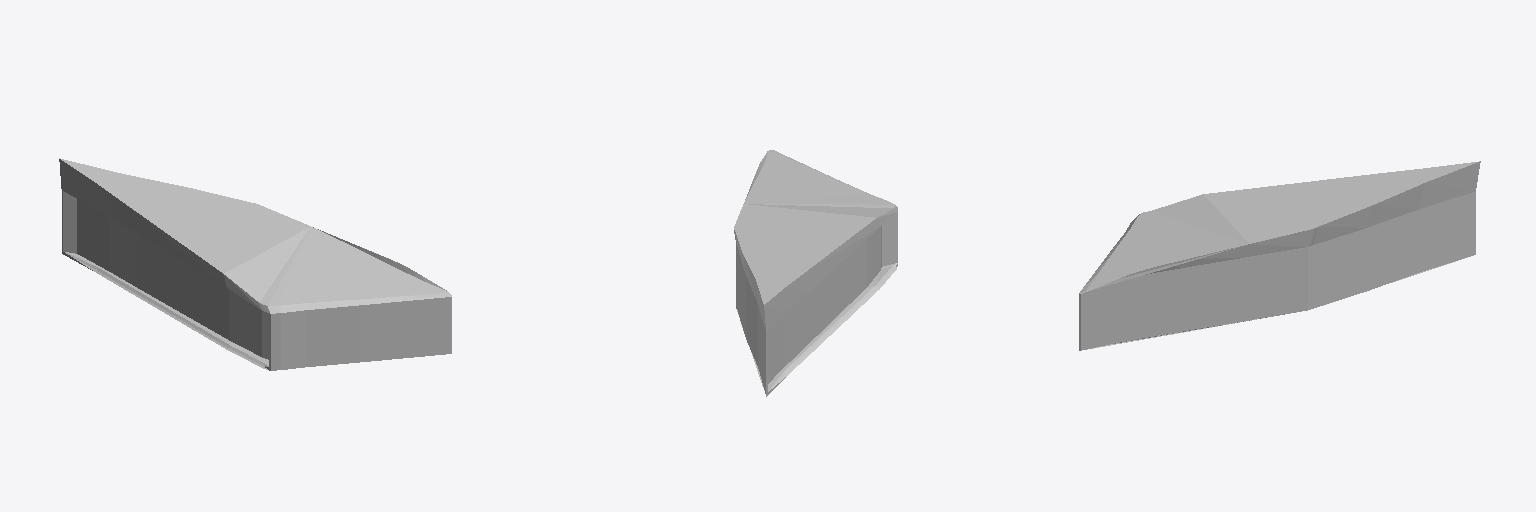
The model's file is Under-Ramp Plastic v2.obj.
The picture shows the model from 3 angles: view 1: azimuth 30°, elevation 25°; view 2: azimuth 150°, elevation 25°; view 3: azimuth 270°, elevation 25°; orthographic projection.
Parts seen in each view (by area): view 1: Cylinder; view 2: Cylinder; view 3: Cylinder.
Boxes of the visible parts, box(x1,y1,x2,y2) form: Cylinder: box(59, 158, 451, 370); Cylinder: box(734, 150, 897, 396); Cylinder: box(1079, 161, 1480, 350).
Bounding box in the file's own units: 3.86 × 1.83 × 6.97.